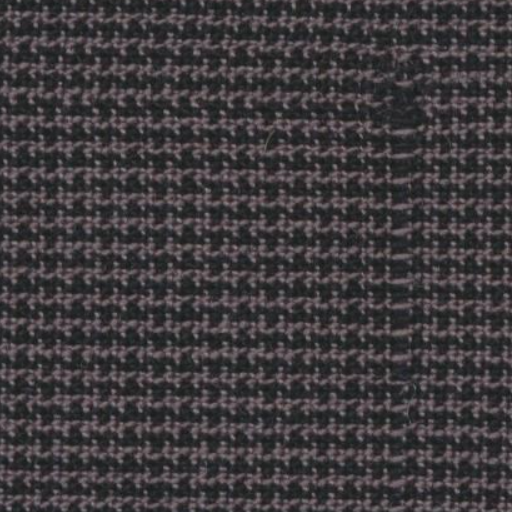DaiSha: (377, 10, 429, 423)
